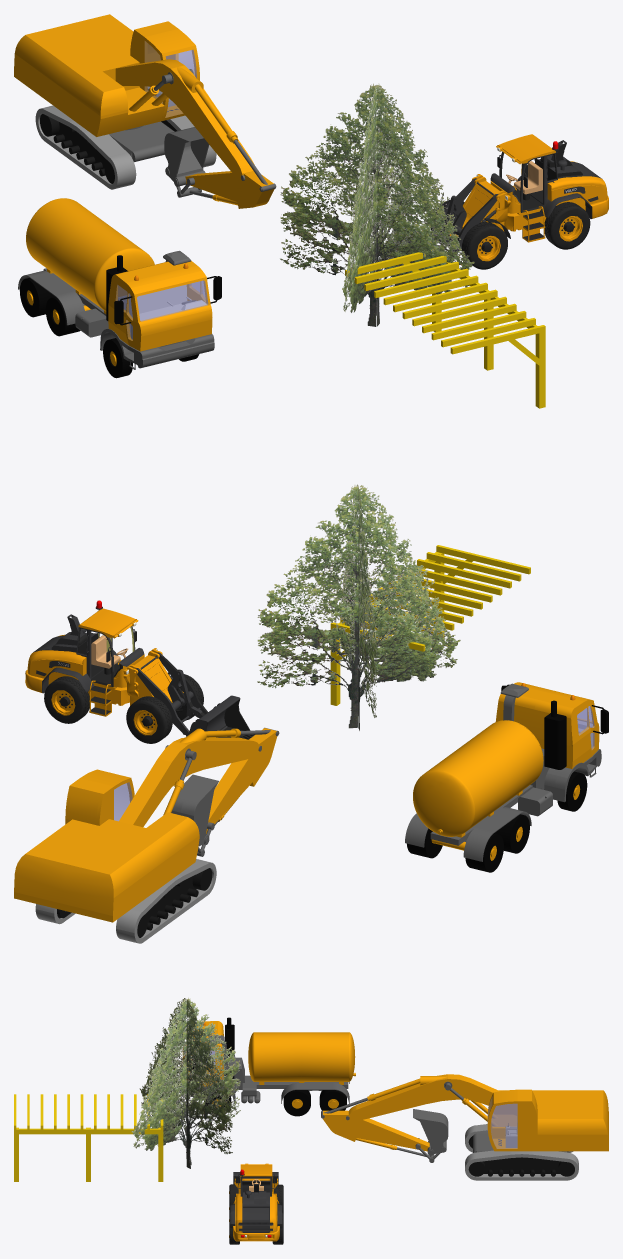
The picture shows the model from 3 angles, top to bottom: view 1: azimuth 30°, elevation 25°; view 2: azimuth 150°, elevation 25°; view 3: azimuth 270°, elevation 25°; orthographic projection. The views are drawn at different scales.
Visible parts, largest first — view 1: App::Element_1, ElementExtension::RoadTankerSubElement_1, ElementExtension::ExcavatorSubElement_1, App::Element_0, ElementExtension::ExcavatorSubElement_8, ElementExtension::ExcavatorSubElement_4, ElementExtension::ExcavatorSubElement_5, ElementExtension::ExcavatorSubElement_0, ElementExtension::RoadTankerSubElement_2, App::SubElement_0, App::SubElement_6, App::SubElement_11 (+10 smaller); view 2: App::Element_1, ElementExtension::RoadTankerSubElement_1, ElementExtension::ExcavatorSubElement_1, App::Element_0, ElementExtension::ExcavatorSubElement_4, ElementExtension::ExcavatorSubElement_8, ElementExtension::ExcavatorSubElement_5, ElementExtension::ExcavatorSubElement_0, App::SubElement_7, App::SubElement_6, App::SubElement_8, ElementExtension::RoadTankerSubElement_2; view 3: App::Element_1, ElementExtension::RoadTankerSubElement_1, ElementExtension::ExcavatorSubElement_1, App::Element_0, ElementExtension::ExcavatorSubElement_8, ElementExtension::ExcavatorSubElement_4, ElementExtension::ExcavatorSubElement_5, ElementExtension::ExcavatorSubElement_0, App::SubElement_3.
Part boxes in pixels (box(x1,y1,x2,y2)): App::Element_1: box(280, 83, 474, 326); ElementExtension::RoadTankerSubElement_1: box(18, 198, 221, 369); ElementExtension::ExcavatorSubElement_1: box(14, 14, 199, 136); App::Element_0: box(379, 134, 608, 269); ElementExtension::ExcavatorSubElement_8: box(35, 105, 216, 189); ElementExtension::ExcavatorSubElement_4: box(115, 59, 254, 180); ElementExtension::ExcavatorSubElement_5: box(173, 170, 276, 208); ElementExtension::ExcavatorSubElement_0: box(164, 127, 209, 181); ElementExtension::RoadTankerSubElement_2: box(103, 338, 132, 378); App::SubElement_0: box(535, 332, 545, 408); App::SubElement_6: box(450, 325, 545, 354); App::SubElement_11: box(402, 289, 497, 319); App::Element_1: box(257, 484, 460, 730); ElementExtension::RoadTankerSubElement_1: box(405, 682, 608, 872); ElementExtension::ExcavatorSubElement_1: box(14, 769, 199, 922); App::Element_0: box(25, 600, 254, 743); ElementExtension::ExcavatorSubElement_4: box(119, 728, 261, 827); ElementExtension::ExcavatorSubElement_8: box(35, 859, 216, 943); ElementExtension::ExcavatorSubElement_5: box(204, 727, 279, 844); ElementExtension::ExcavatorSubElement_0: box(171, 774, 218, 846); App::SubElement_7: box(426, 552, 521, 581); App::SubElement_6: box(436, 545, 530, 574); App::SubElement_8: box(417, 559, 511, 588); ElementExtension::RoadTankerSubElement_2: box(557, 771, 587, 811); App::Element_1: box(131, 997, 240, 1168); ElementExtension::RoadTankerSubElement_1: box(180, 1017, 355, 1116); ElementExtension::ExcavatorSubElement_1: box(487, 1089, 608, 1151); App::Element_0: box(229, 1163, 283, 1244); ElementExtension::ExcavatorSubElement_8: box(465, 1124, 578, 1180); ElementExtension::ExcavatorSubElement_4: box(346, 1074, 517, 1120); ElementExtension::ExcavatorSubElement_5: box(321, 1110, 434, 1155); ElementExtension::ExcavatorSubElement_0: box(413, 1109, 448, 1153); App::SubElement_3: box(14, 1128, 163, 1134).
Size of the model in its own units: 17.03 by 23.92 by 7.81.
1 material, 1 textured.
